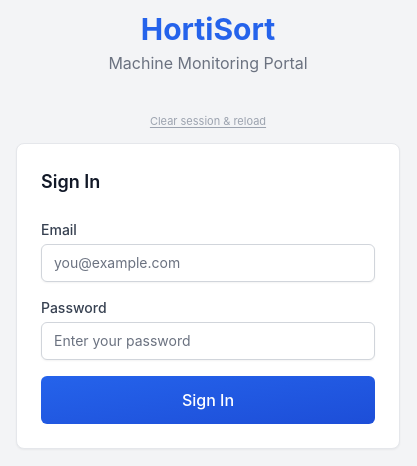
LoginPage › disables submit button while loading
This screenshot has width=417, height=466.
Type "rajesh.patel@agrifresh.com" into the field labelled "Email".
click(208, 263); type("rajesh.patel@agrifresh.com")  # box top-left (41, 244), bottom-right (375, 282)
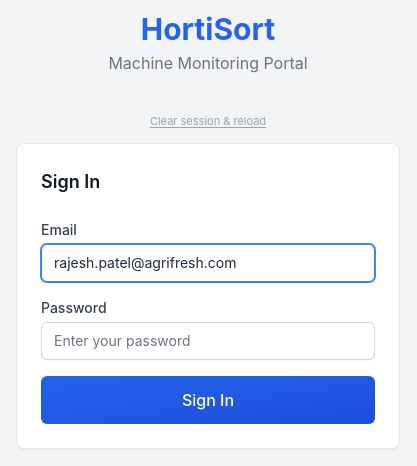
Type "password_123" into the password field labelled "Password".
click(208, 341); type("password_123")  # box top-left (41, 322), bottom-right (375, 360)
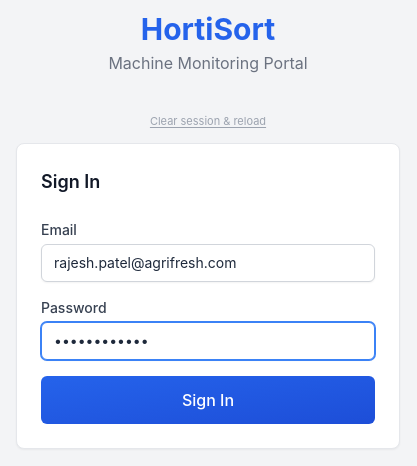
Click the button "Sign In".
click(208, 400)  # box top-left (41, 376), bottom-right (375, 424)
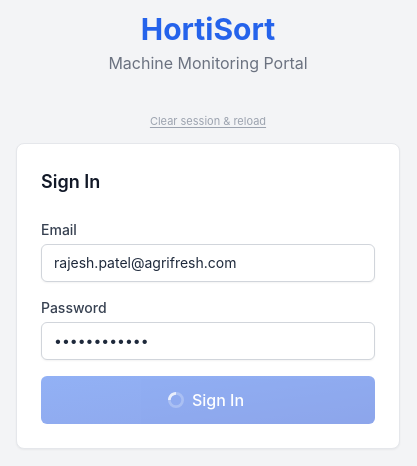
Now the button "Sign In" is disabled, box top-left (41, 376), bottom-right (375, 424)
